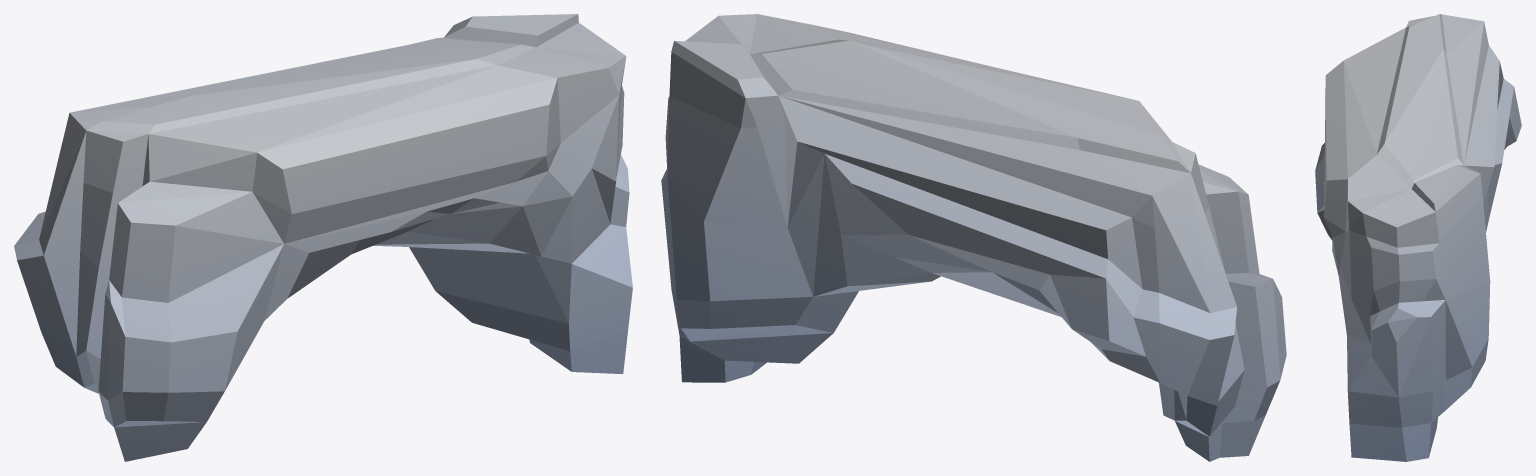
Rendered from SM_Gen_Env_Cliff_Arch_01.glb.
3 views of the same model, side by side, from view 1: azimuth 30°, elevation 25°; view 2: azimuth 150°, elevation 25°; view 3: azimuth 270°, elevation 25° (orthographic). The views are drawn at different scales.
Visible parts, largest first — view 1: SM_Gen_Env_Cliff_Arch_01; view 2: SM_Gen_Env_Cliff_Arch_01; view 3: SM_Gen_Env_Cliff_Arch_01.
Boxes of the visible parts, x1,y1,x2,y2 form: SM_Gen_Env_Cliff_Arch_01: (14, 14, 632, 461); SM_Gen_Env_Cliff_Arch_01: (661, 14, 1286, 461); SM_Gen_Env_Cliff_Arch_01: (1315, 14, 1521, 461).
Size of the model in its own units: 11.85 by 6.66 by 4.71.
Materials: 1 (1 with a texture image).
